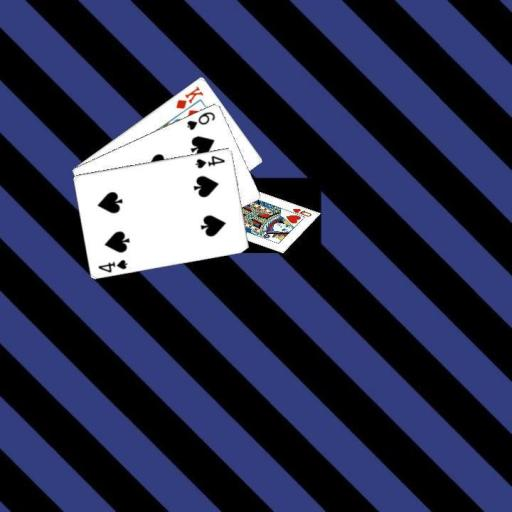card-corner: (172, 83, 205, 110), (183, 108, 217, 132), (95, 256, 129, 274), (193, 152, 227, 169)
